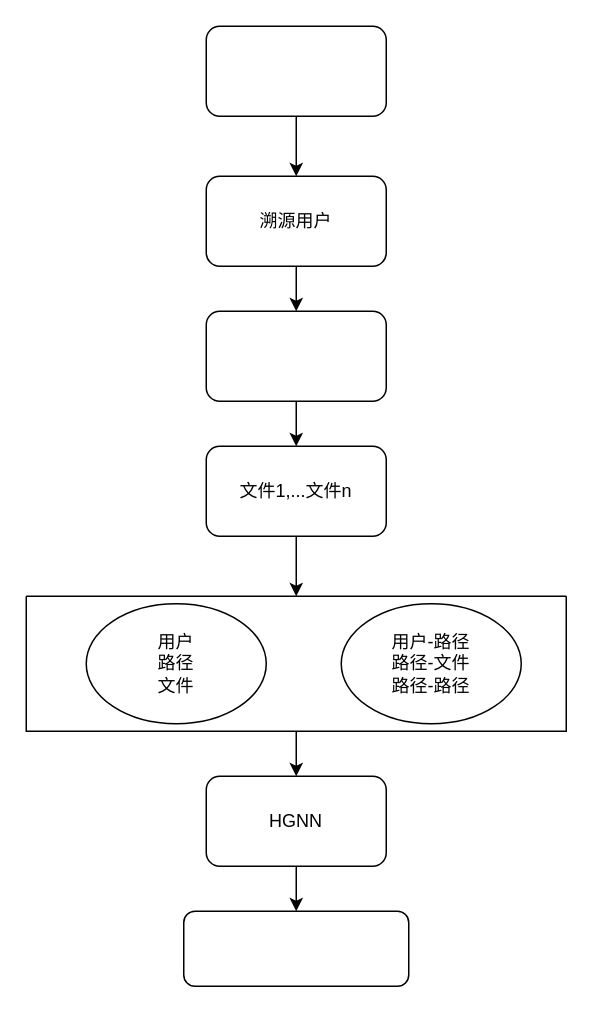
Image size: 593x1013. Some labels were removed from this diagram. The shapes that lost their labels are listed below. From the top down, each one's centre as x and y in pixels, then its label:
At point 295,70: "儿童色情种子文件".
At point 295,355: "路径1，...，路径n".
At point 295,948: "儿童色情相关文件、目录".
